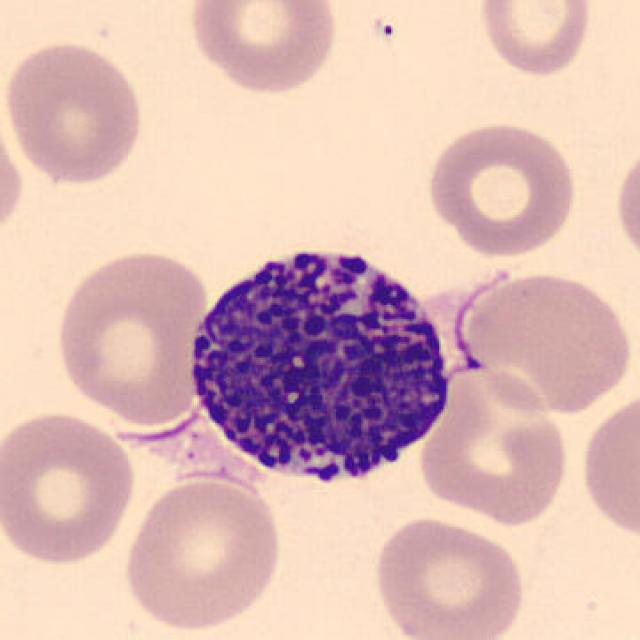Basophil: (172, 226, 466, 506)
RBC: (50, 245, 212, 428), (454, 266, 636, 420), (118, 472, 286, 634), (414, 360, 572, 529), (422, 116, 582, 261), (0, 405, 140, 567), (0, 37, 148, 187), (370, 513, 530, 640), (185, 0, 343, 97), (576, 386, 640, 545), (474, 0, 595, 79), (0, 109, 28, 248), (611, 139, 640, 271)
